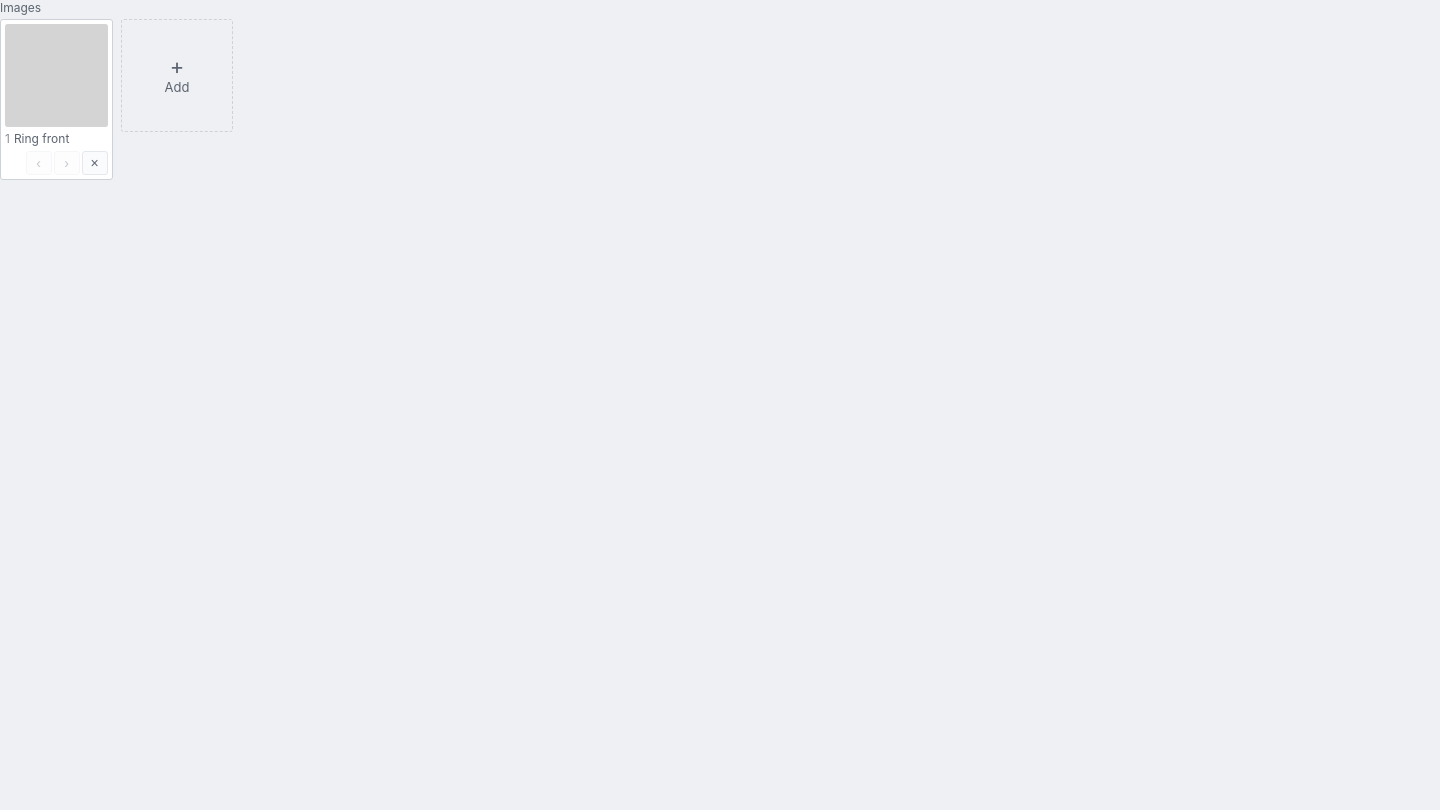
Test case: RefCards (refs) › adds several from the dialog, in the order picked, offering only unchosen ones
This screenshot has width=1440, height=810.
Click the button "+ Add".
click(177, 75)  # box [121, 19, 233, 132]
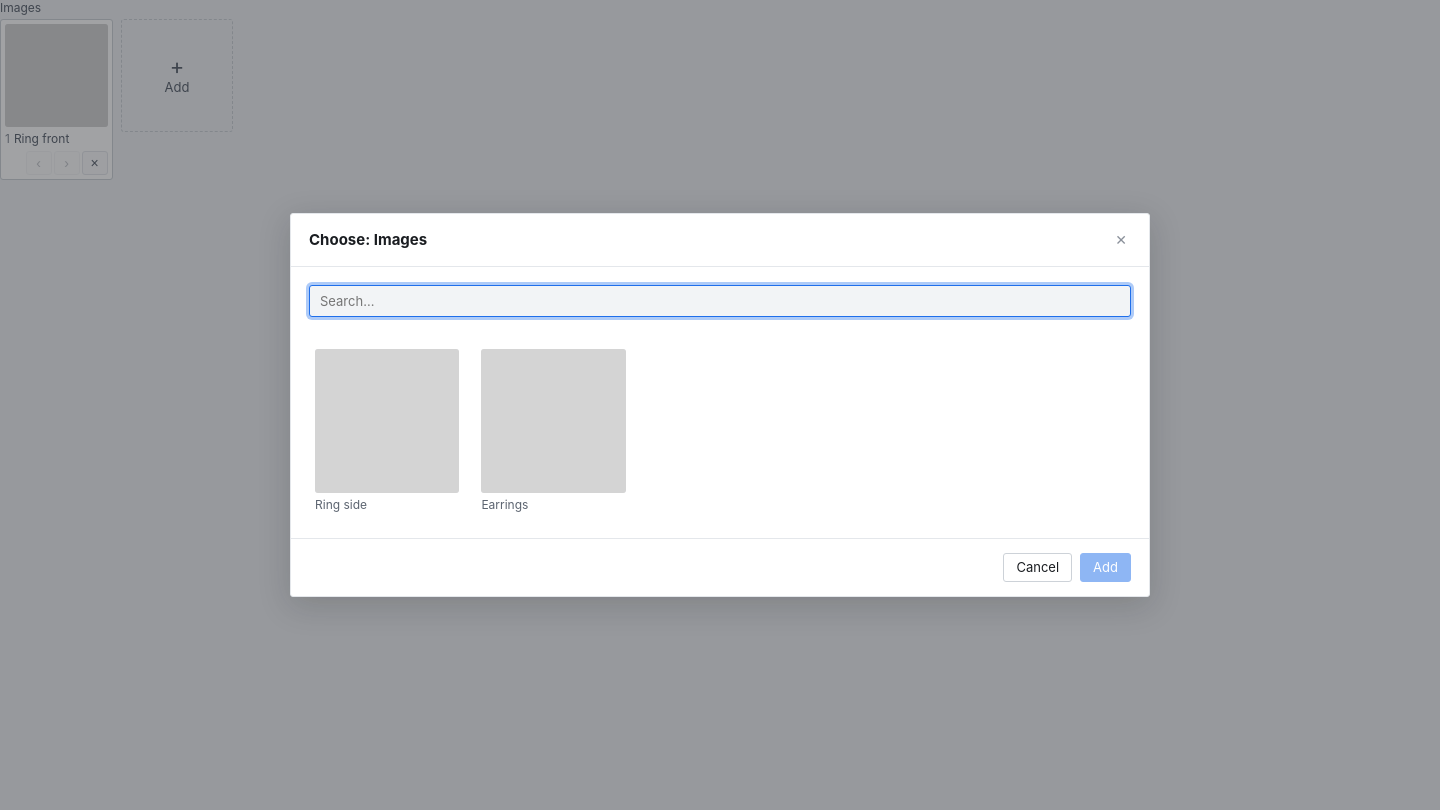
Click the button "Earrings".
click(554, 432)  # box [475, 343, 632, 520]
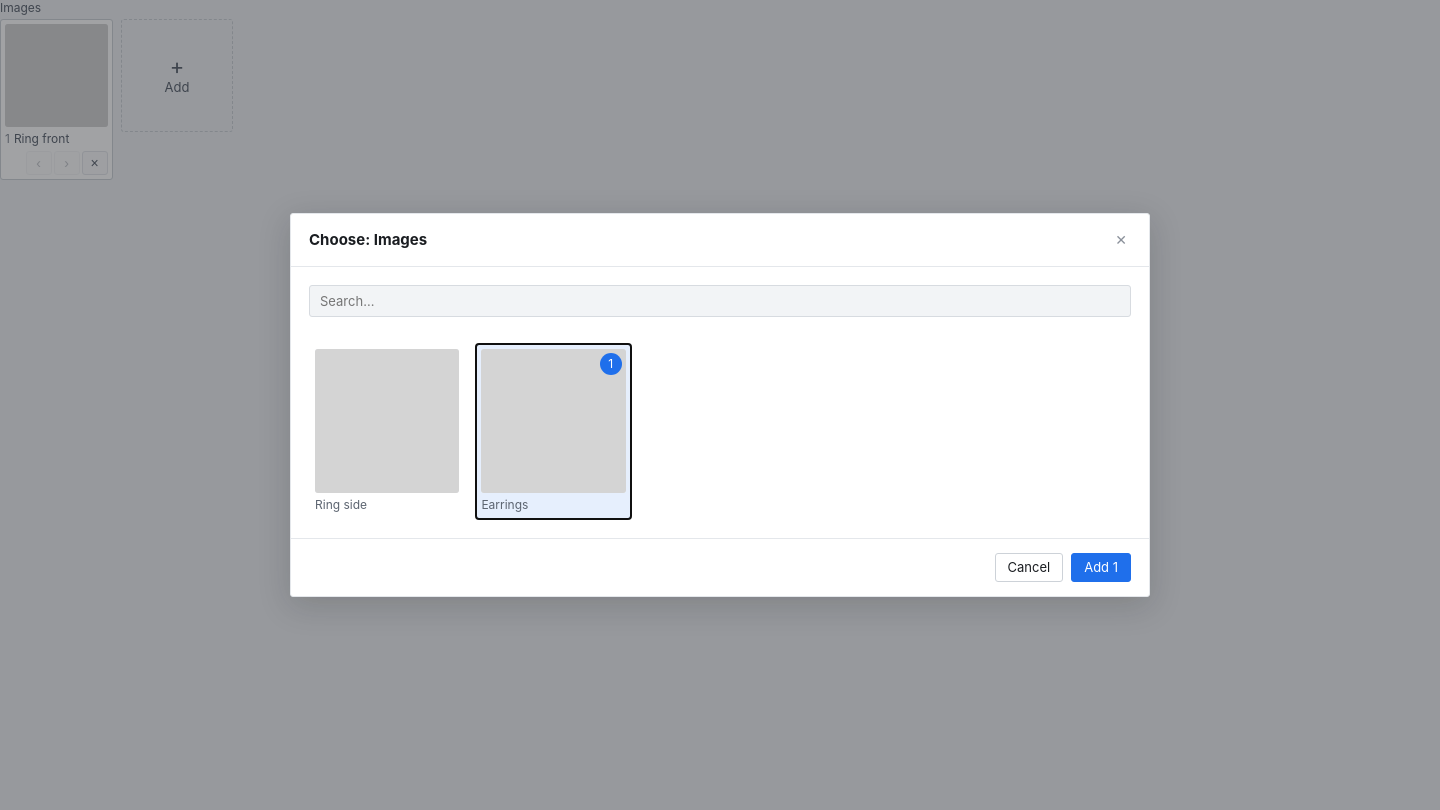
Click the button "Ring side".
click(387, 432)  # box [309, 343, 465, 520]
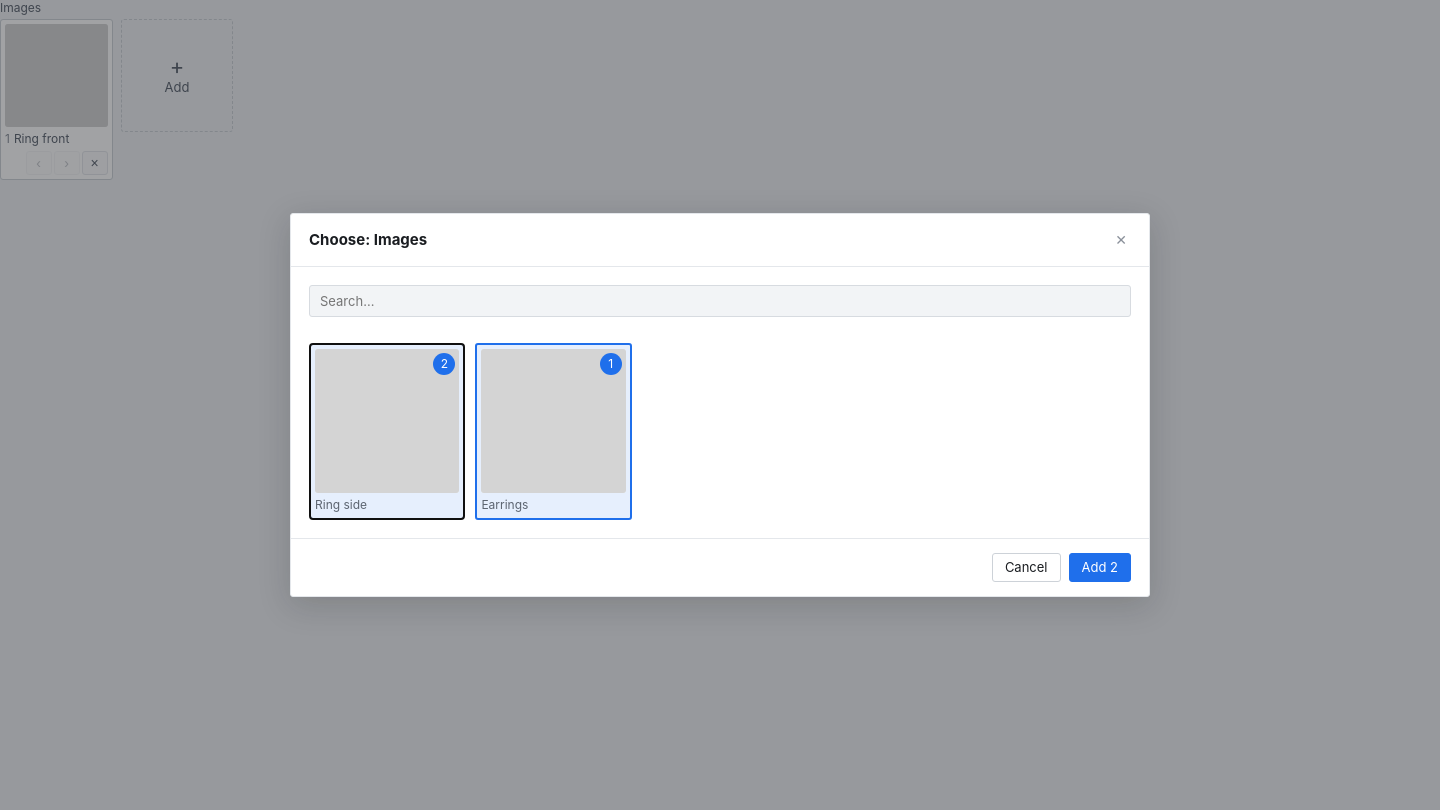
Click the button "Add 2".
click(1100, 568)  # box [1068, 553, 1131, 582]
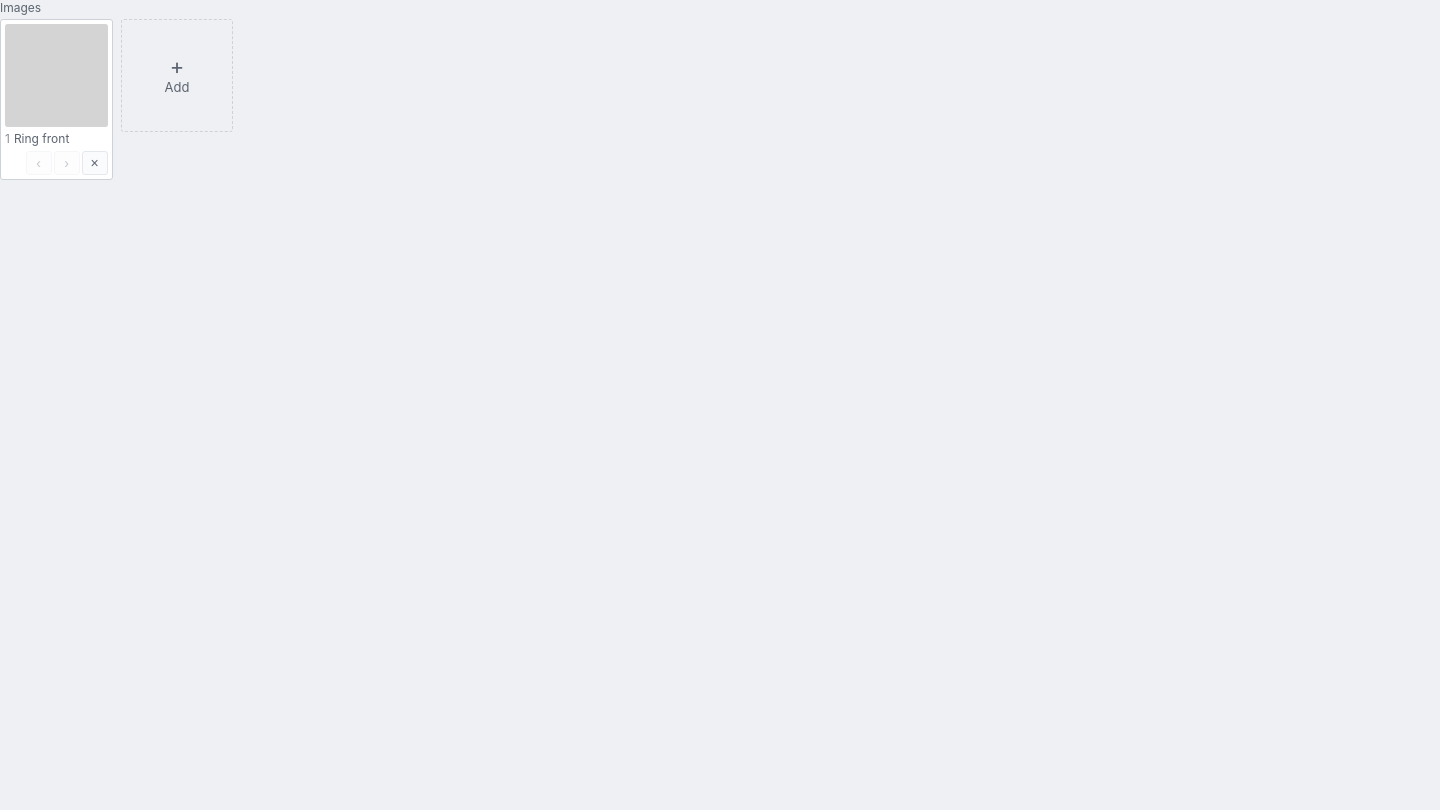
Now the dialog is gone
